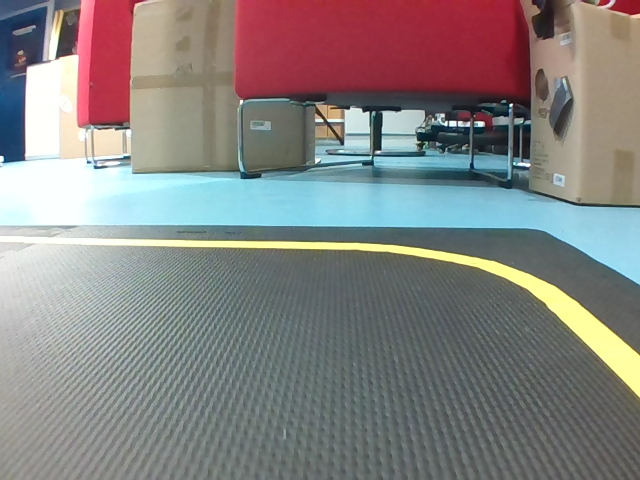30: (502, 94, 544, 140)
no30: (72, 123, 89, 146)
